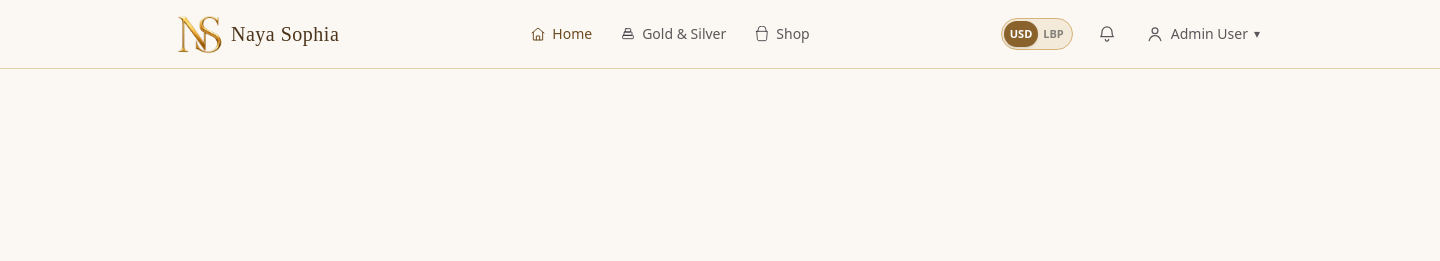
Navbar account menu › hides order history and wishlist links for an admin - shopping features, not relevant to an admin's own account
The image size is (1440, 261).
Click the button "Admin User ▾".
click(1202, 34)  # box x1=1141 y1=12 x2=1264 y2=56
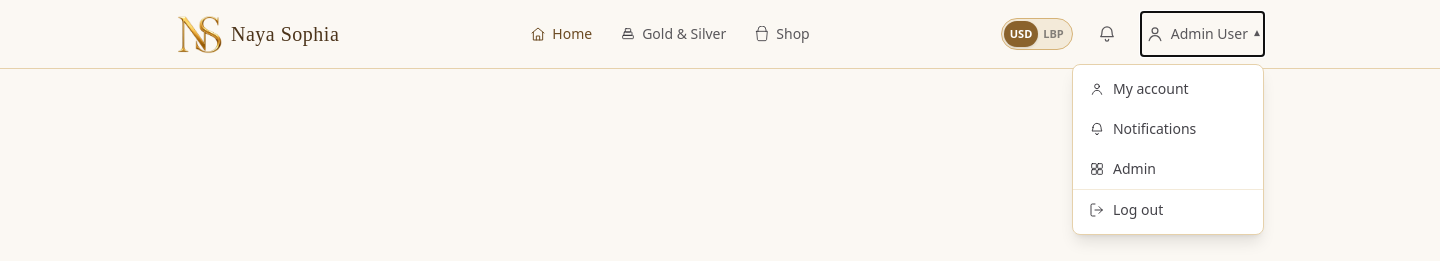
Check: the link "Admin" is shown, box x1=1089 y1=159 x2=1156 y2=178
